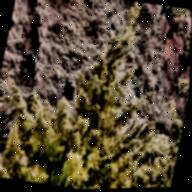boar: (19, 43, 47, 87), (57, 72, 81, 101), (28, 6, 50, 37), (28, 24, 47, 57), (29, 0, 44, 17)
